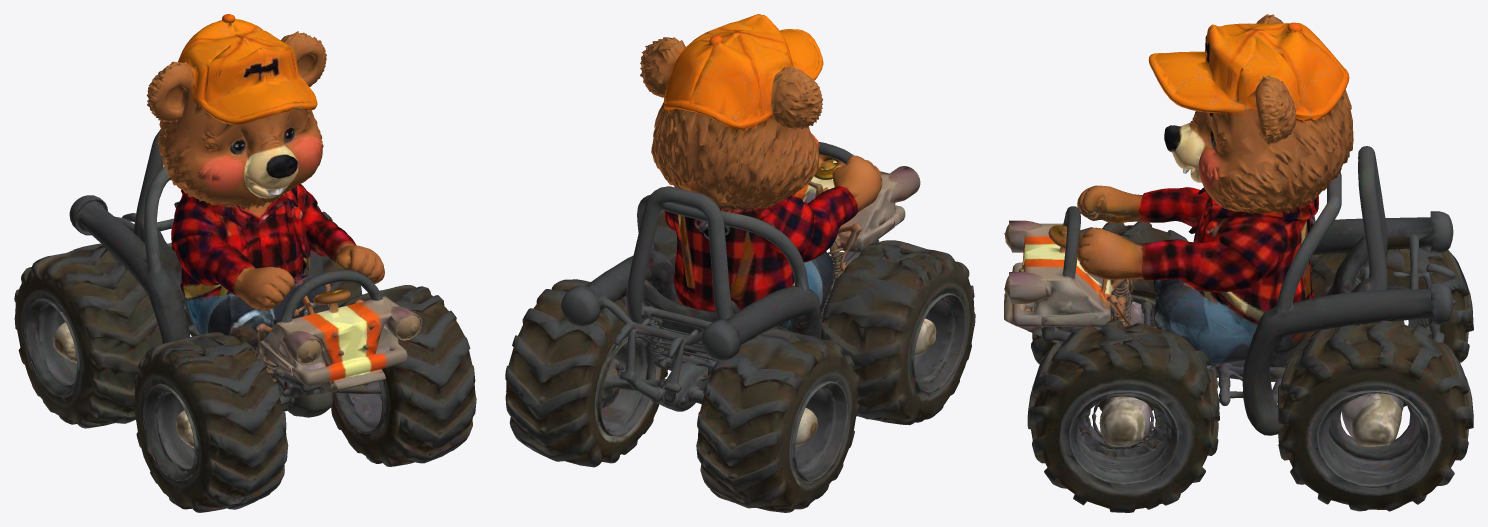
The model's file is Bear in kart.glb.
3 views of the same model, side by side, from view 1: azimuth 30°, elevation 25°; view 2: azimuth 150°, elevation 25°; view 3: azimuth 270°, elevation 25° (orthographic). The views are drawn at different scales.
Bounding box in the file's own units: 1.35 × 1.9 × 1.89.
Materials: 1 (1 with a texture image).
